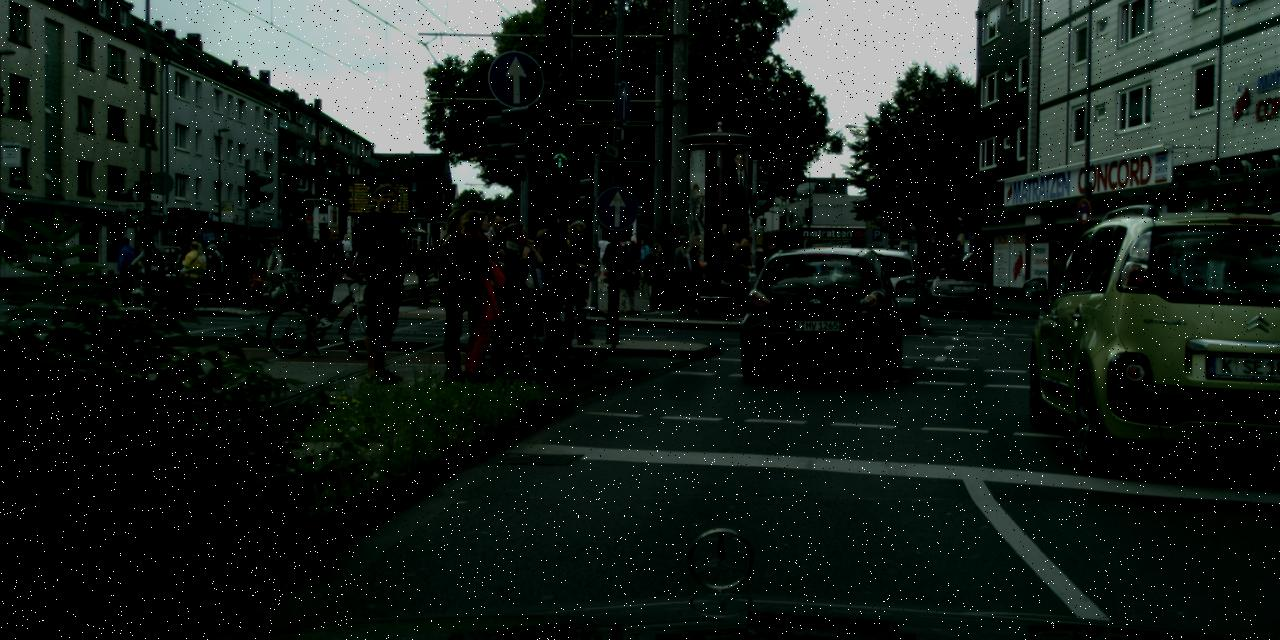ped: (344, 184, 424, 382), (440, 206, 512, 382), (422, 209, 492, 380), (524, 218, 587, 370), (485, 222, 546, 372), (470, 212, 524, 346), (300, 223, 348, 342), (552, 220, 599, 335), (523, 227, 565, 331), (726, 237, 758, 314), (668, 235, 698, 313), (720, 241, 750, 315), (642, 243, 671, 312), (219, 236, 247, 304), (681, 244, 708, 312), (410, 241, 436, 307), (614, 249, 640, 311), (250, 241, 274, 303), (115, 238, 139, 299), (636, 238, 650, 274), (339, 234, 353, 268), (939, 248, 962, 265), (627, 239, 637, 265), (961, 254, 962, 257)
